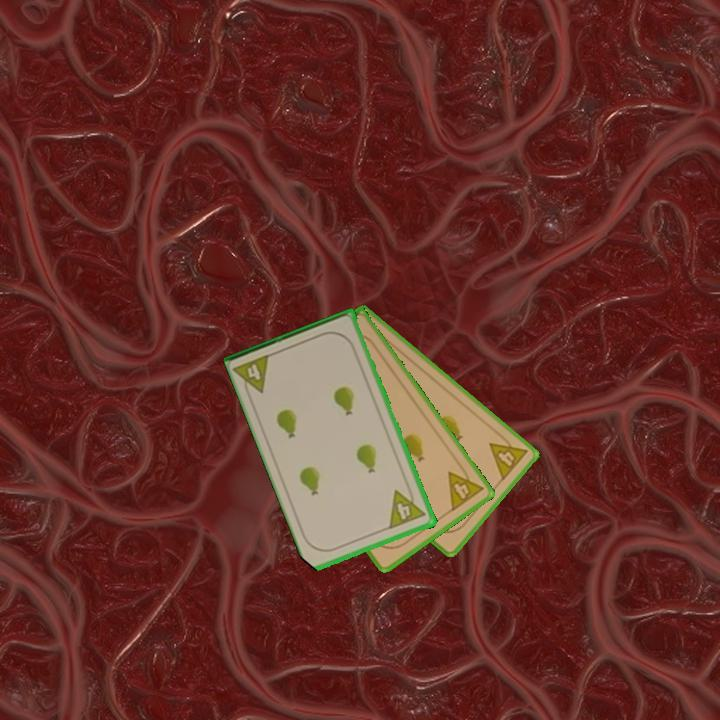4p: (486, 429, 530, 484), (444, 460, 486, 514), (231, 351, 275, 401), (386, 483, 429, 532)
